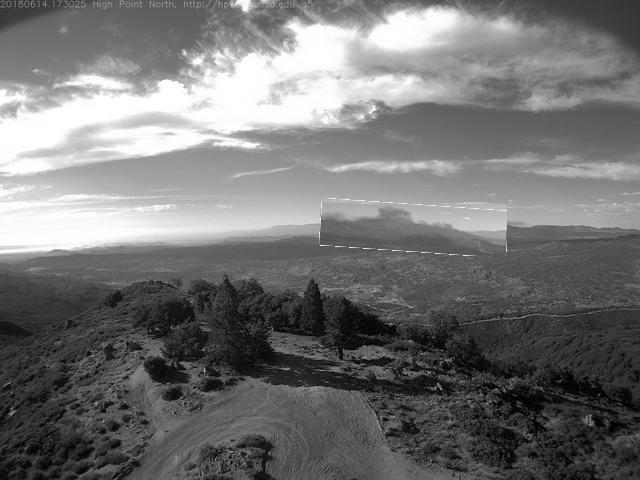smoke: (321, 202, 509, 255)
